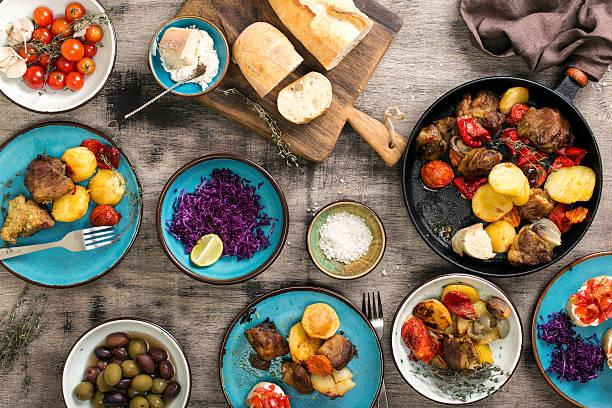Braised Crucian Carp: (401, 74, 600, 274), (0, 118, 147, 291), (207, 282, 388, 407), (390, 272, 520, 403), (0, 0, 116, 112)
